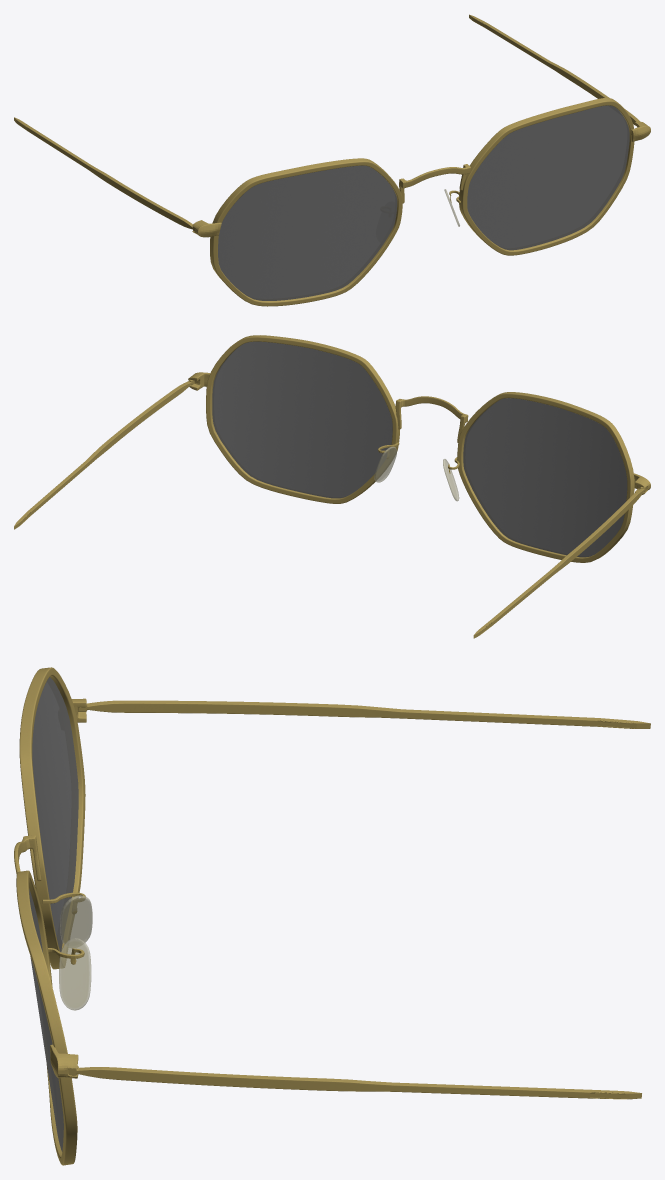
Rendered from OctagonalApp.glb.
3 views of the same model, one above another, from view 1: azimuth 30°, elevation 25°; view 2: azimuth 150°, elevation 25°; view 3: azimuth 270°, elevation 25° (orthographic). The views are drawn at different scales.
Parts seen in each view (by area): view 1: Lentes, armacao.001; view 2: Lentes, armacao.001, pontes; view 3: armacao.001, Lentes, pontes.
Boxes of the visible parts, x1,y1,x2,y2 form: Lentes: (218, 105, 629, 300); armacao.001: (14, 14, 650, 306); Lentes: (212, 341, 627, 557); armacao.001: (14, 335, 650, 638); pontes: (374, 446, 459, 501); armacao.001: (14, 667, 650, 1165); Lentes: (29, 677, 78, 1151); pontes: (59, 895, 92, 1010).
Size of the model in its own units: 0.1557 by 0.0474 by 0.1139.
3 materials, 3 textured.
